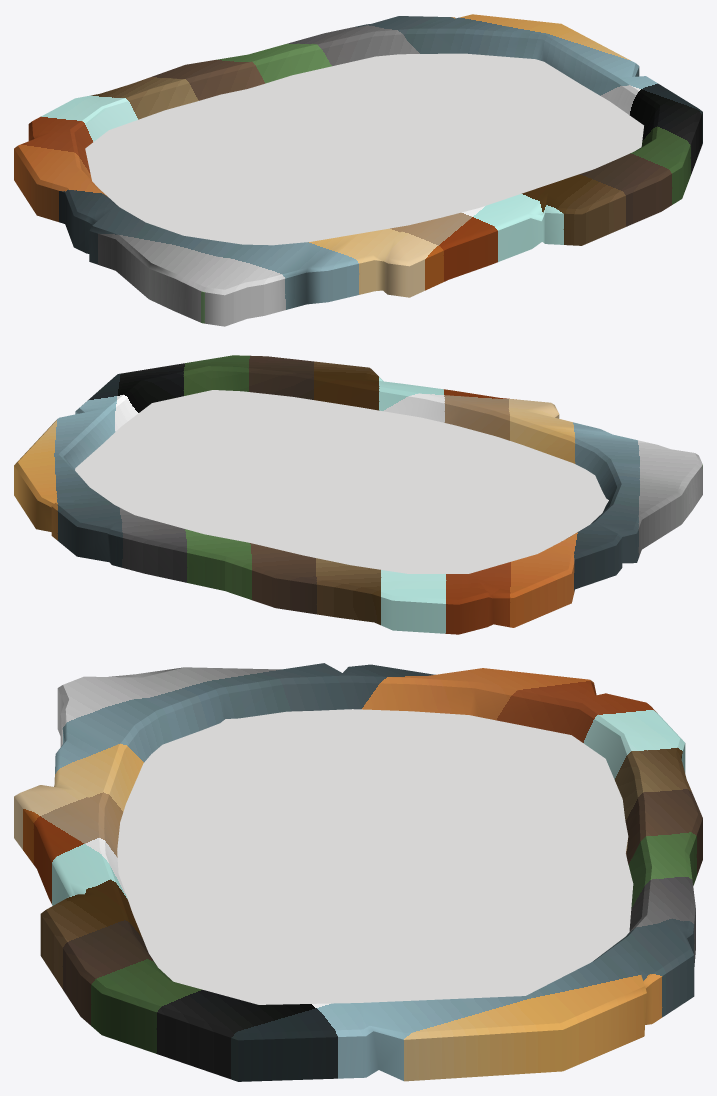
The model's file is P_AP22WallPainting.glb.
3 renders of one model, top to bottom at view 1: azimuth 30°, elevation 25°; view 2: azimuth 150°, elevation 25°; view 3: azimuth 270°, elevation 25°, orthographic. The views are drawn at different scales.
Parts seen in each view (by area): view 1: P_AP22WallPainting; view 2: P_AP22WallPainting; view 3: P_AP22WallPainting.
Boxes of the visible parts, <box> form: P_AP22WallPainting: <box>14,14,702,326</box>; P_AP22WallPainting: <box>14,355,702,634</box>; P_AP22WallPainting: <box>14,663,702,1081</box>.
Size of the model in its own units: 1.86 by 0.1259 by 1.44.
Materials: 1 (1 with a texture image).
